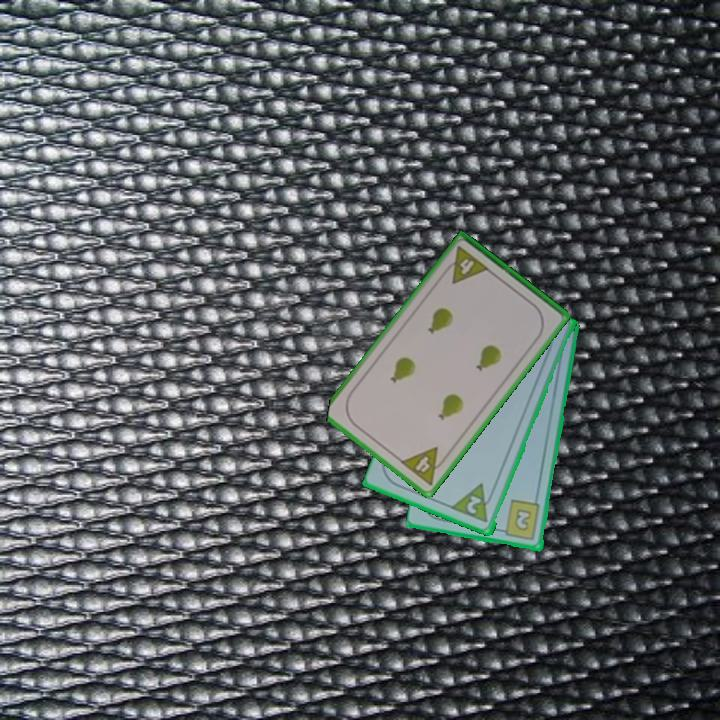2b: (496, 497, 543, 543)
2p: (449, 480, 498, 526)
4p: (397, 443, 451, 488), (439, 243, 492, 287)
